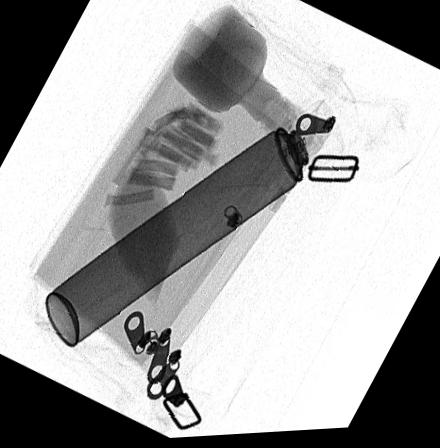Sprayer: (44, 102, 345, 347)
